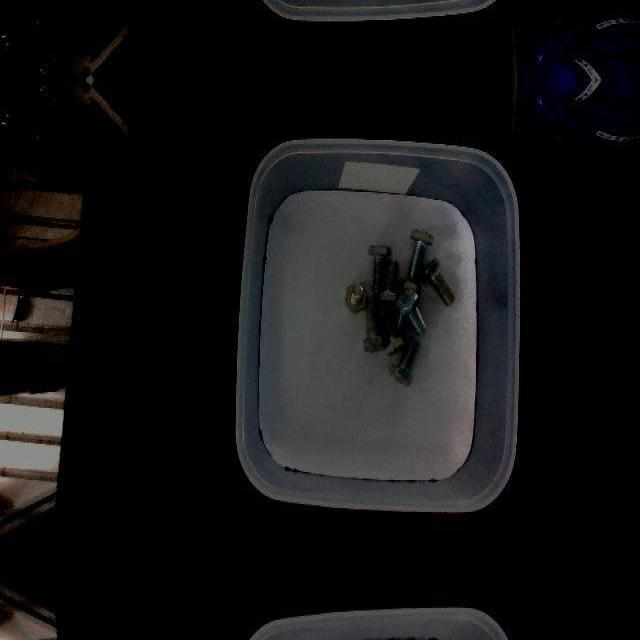screw: (420, 257, 456, 307), (389, 334, 420, 386), (395, 287, 425, 335), (407, 229, 433, 279), (362, 301, 386, 353), (368, 243, 391, 293), (346, 281, 367, 311)
